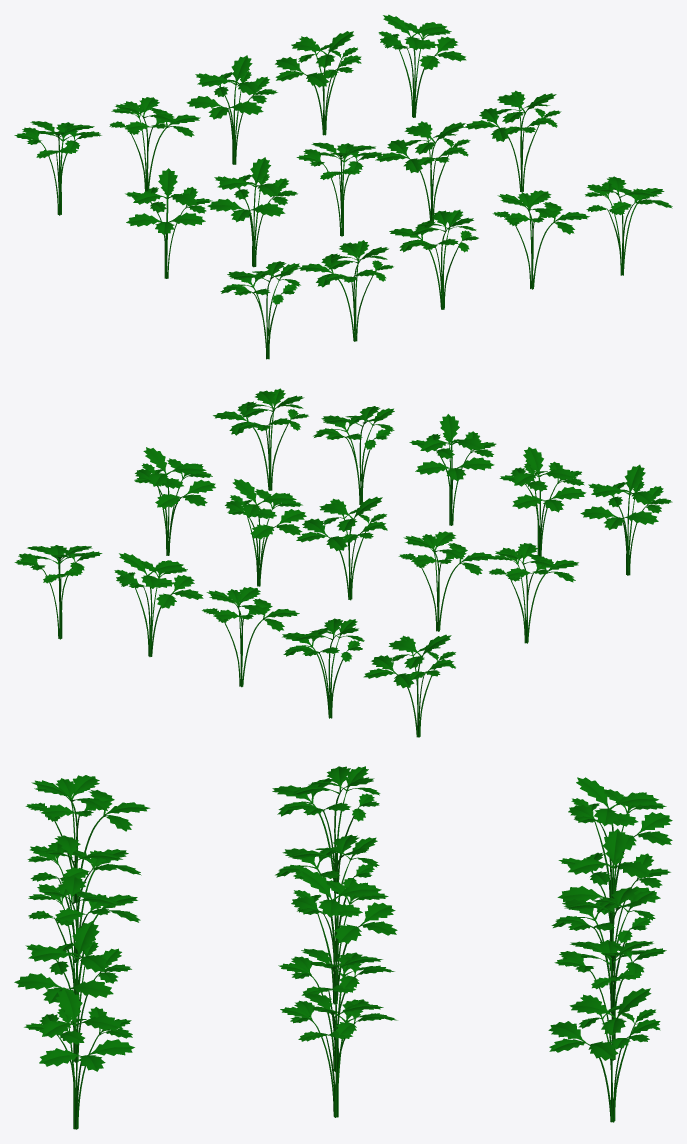
The model's file is Strawberry_lvl3.fbx.
The picture shows the model from 3 angles, top to bottom: view 1: azimuth 30°, elevation 25°; view 2: azimuth 150°, elevation 25°; view 3: azimuth 270°, elevation 25°; orthographic projection. The views are drawn at different scales.
Visible parts, largest first — view 1: Strawberry_lvl3_LOD0; view 2: Strawberry_lvl3_LOD0; view 3: Strawberry_lvl3_LOD0.
Boxes of the visible parts, x1,y1,x2,y2 form: Strawberry_lvl3_LOD0: (14,14,672,359); Strawberry_lvl3_LOD0: (14,388,672,737); Strawberry_lvl3_LOD0: (14,766,672,1129).
Size of what is drawn, in the model's own units: 103 by 104 by 25.07.
